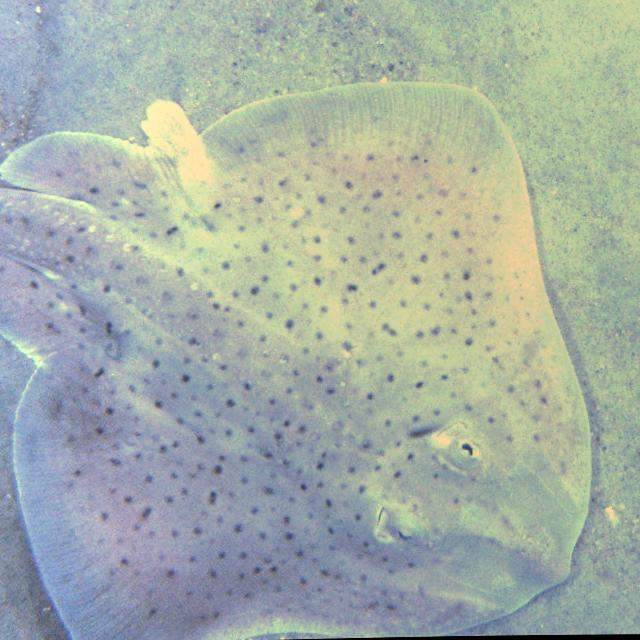skate: (0, 85, 597, 636)
